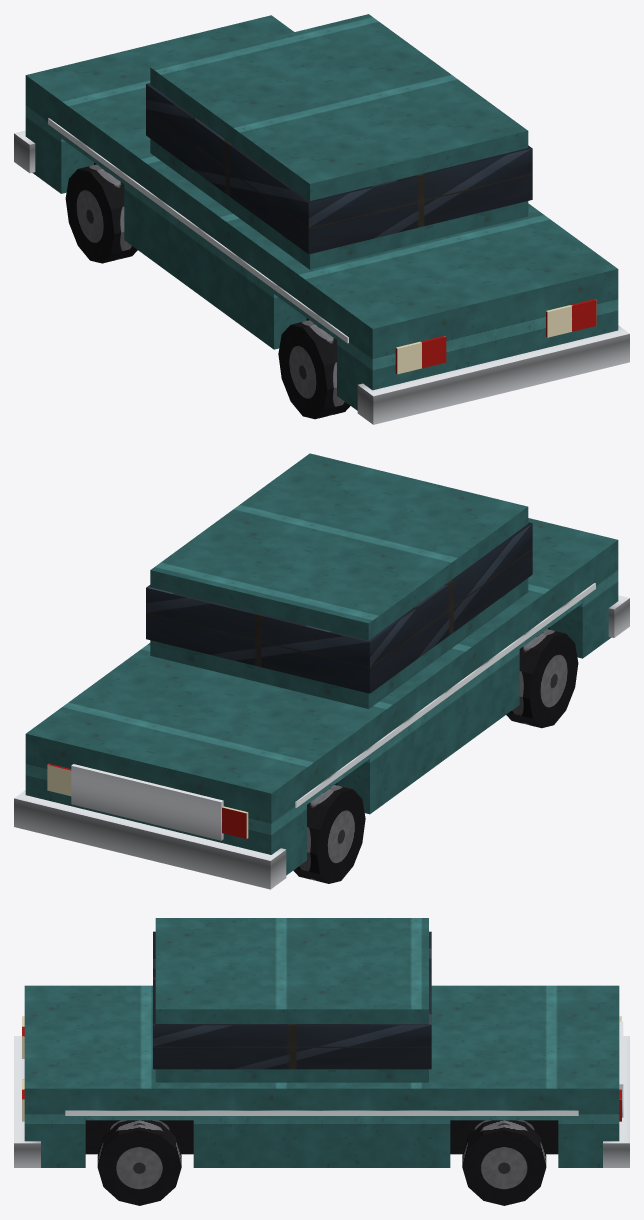
The model's file is Car_SedanTeal.fbx.
3 renders of one model, top to bottom at view 1: azimuth 30°, elevation 25°; view 2: azimuth 150°, elevation 25°; view 3: azimuth 270°, elevation 25°, orthographic. The views are drawn at different scales.
Parts seen in each view (by area): view 1: Car_SedanTeal; view 2: Car_SedanTeal; view 3: Car_SedanTeal.
Boxes of the visible parts, x1,y1,x2,y2 form: Car_SedanTeal: [14, 14, 629, 424]; Car_SedanTeal: [14, 453, 629, 889]; Car_SedanTeal: [14, 918, 629, 1205].
Size of the model in its own units: 1.88 by 1.55 by 4.56.
